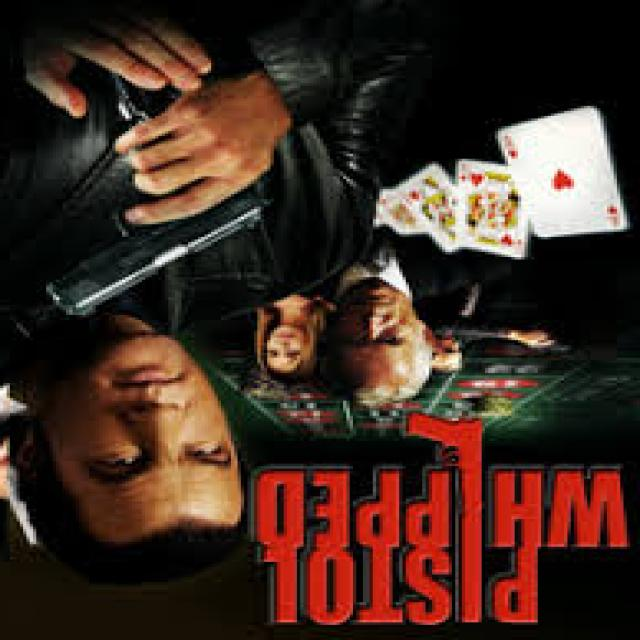gun: (36, 92, 286, 329), (514, 328, 583, 368)
